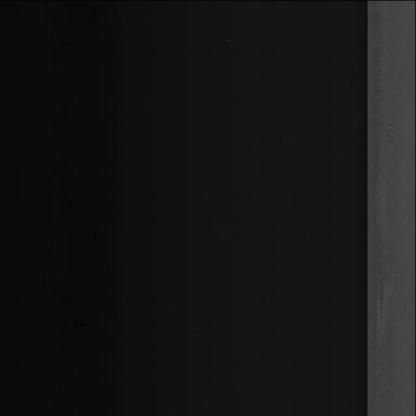silk_spot: (375, 260, 398, 361)
